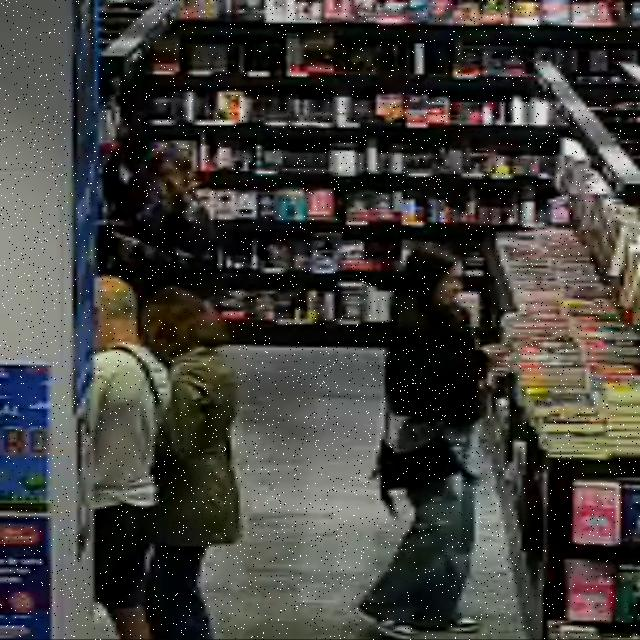bags: (374, 411, 476, 513)
hands: (482, 344, 509, 373)
person: (359, 245, 488, 639), (143, 288, 240, 639), (87, 277, 170, 639)
